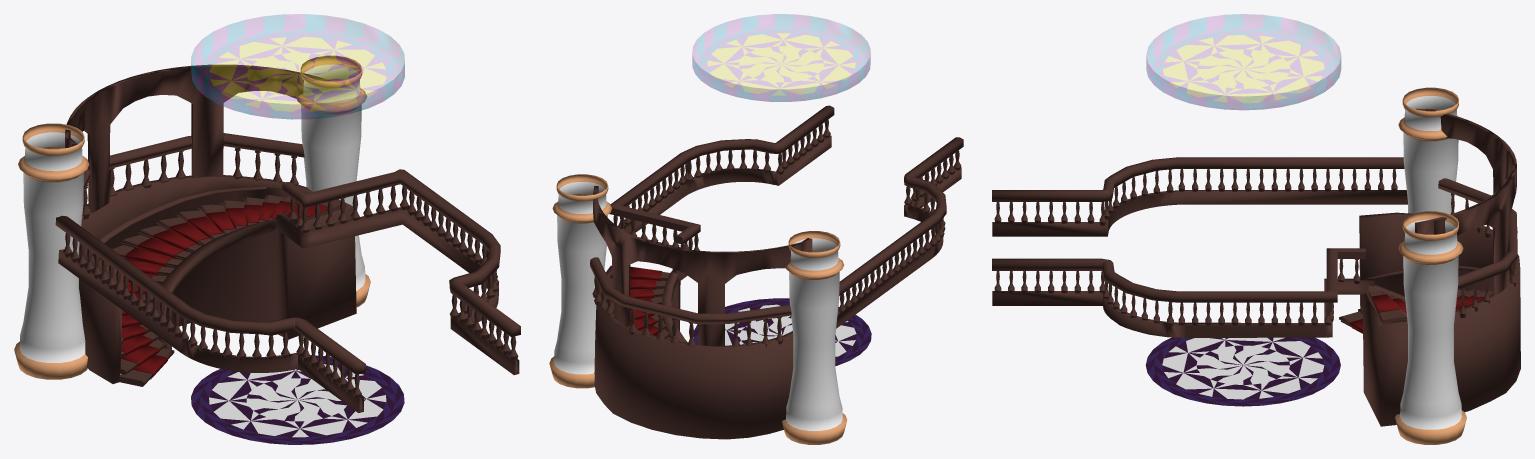
Rendered from hall_export.fbx.
3 views of the same model, side by side, from view 1: azimuth 30°, elevation 25°; view 2: azimuth 150°, elevation 25°; view 3: azimuth 270°, elevation 25° (orthographic). The views are drawn at different scales.
Parts seen in each view (by area): view 1: Plane.002, Cylinder.004, Cube.096, barriere_gauche, pisodos.008, Cylinder, pisodos.011, pisodos.001, ESCALERAS.001, ESCALERAS.003, Cube.083; view 2: Plane.002, Cylinder.004, pisodos.008, Cube.096, pisodos.001, pisodos.011, barriere_gauche, Cylinder, Cube.083, ESCALERAS.001, ESCALERAS.003; view 3: Plane.002, Cylinder.004, barriere_gauche, Cube.096, pisodos.001, Cylinder, pisodos.008, pisodos.011, Cube.083, ESCALERAS.003, ESCALERAS.001.
Part boxes in pixels (box(x1,y1,x2,y2)): Plane.002: box(79, 175, 356, 383); Cylinder.004: box(191, 14, 404, 119); Cube.096: box(276, 169, 520, 374); barriere_gauche: box(55, 215, 365, 412); pisodos.008: box(14, 123, 89, 379); Cylinder: box(191, 355, 404, 444); pisodos.011: box(65, 64, 331, 213); pisodos.001: box(296, 55, 370, 307); ESCALERAS.001: box(121, 201, 327, 379); ESCALERAS.003: box(99, 194, 346, 386); Cube.083: box(83, 133, 304, 191); Plane.002: box(594, 265, 793, 439); Cylinder.004: box(692, 14, 870, 101); pisodos.008: box(782, 231, 847, 444); Cube.096: box(609, 105, 834, 280); pisodos.001: box(549, 174, 612, 388); pisodos.011: box(593, 186, 812, 346); barriere_gauche: box(836, 137, 963, 328); Cylinder: box(693, 298, 871, 366); Cube.083: box(590, 257, 791, 324); ESCALERAS.001: box(630, 266, 665, 338); ESCALERAS.003: box(605, 270, 671, 339); Plane.002: box(1359, 212, 1520, 426); Cylinder.004: box(1146, 14, 1341, 110); barriere_gauche: box(992, 157, 1407, 236); Cube.096: box(992, 248, 1374, 337); pisodos.001: box(1395, 211, 1466, 444); Cylinder: box(1145, 337, 1340, 406); pisodos.008: box(1398, 87, 1458, 214); pisodos.011: box(1415, 108, 1516, 295); Cube.083: box(1438, 178, 1517, 289); ESCALERAS.003: box(1339, 288, 1494, 326); ESCALERAS.001: box(1349, 294, 1483, 333).
Size of the model in its own units: 2124 by 3090 by 2038.
